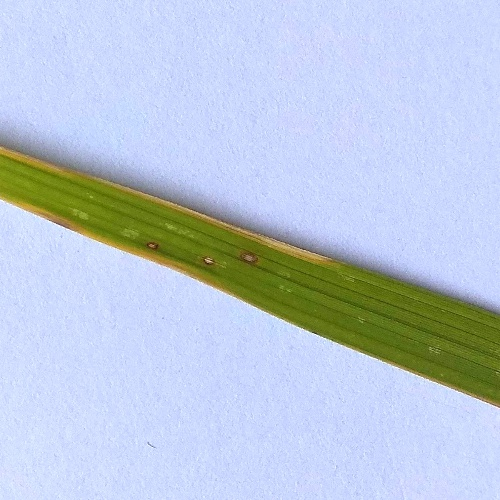Busuk Leher: (235, 246, 264, 270), (140, 234, 164, 258), (202, 251, 219, 276)
